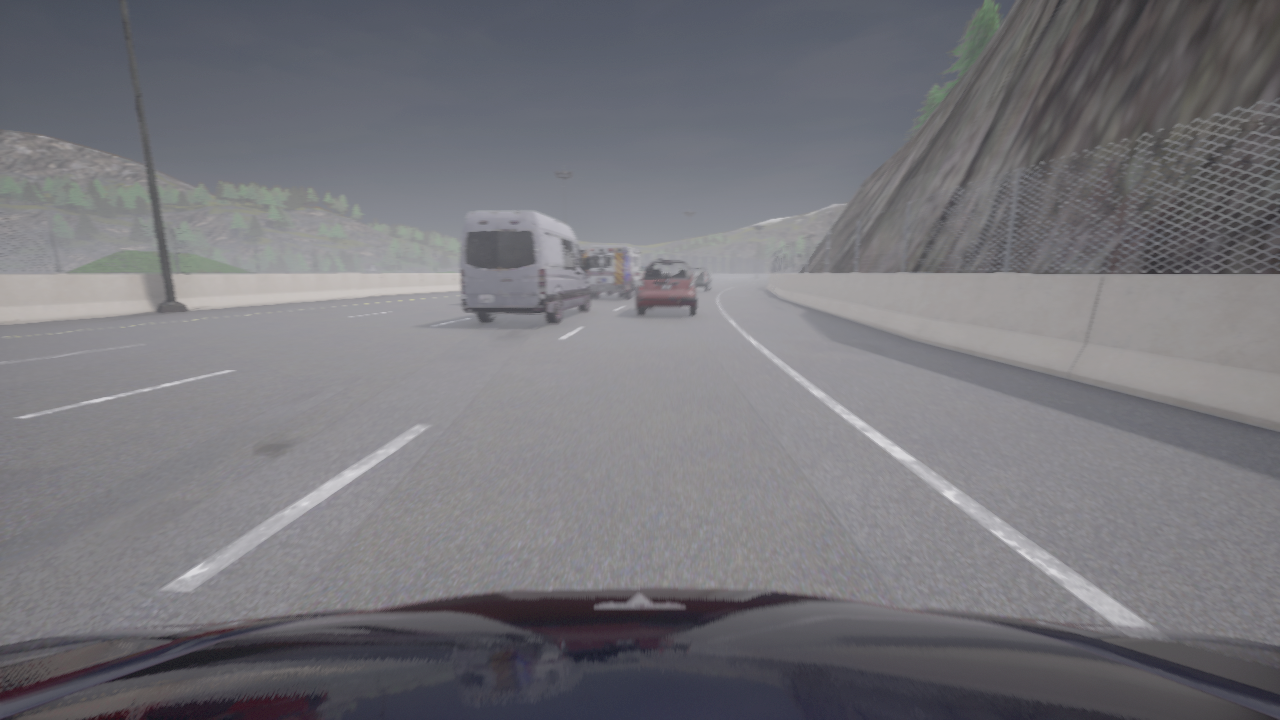cyclist: (0, 588, 1279, 719), (460, 211, 590, 323), (636, 260, 699, 316), (579, 245, 645, 298), (690, 267, 711, 292)
